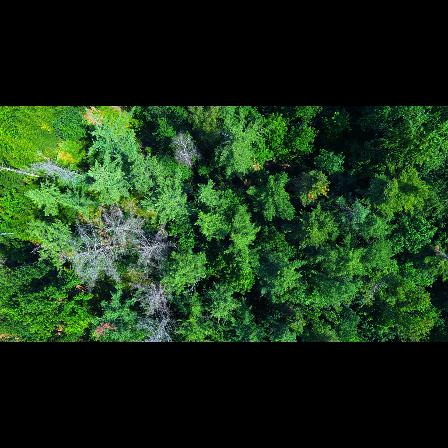Dead: (66, 237, 122, 278), (128, 231, 180, 273), (106, 206, 145, 248), (131, 283, 172, 320), (168, 133, 201, 173), (142, 309, 177, 342)
